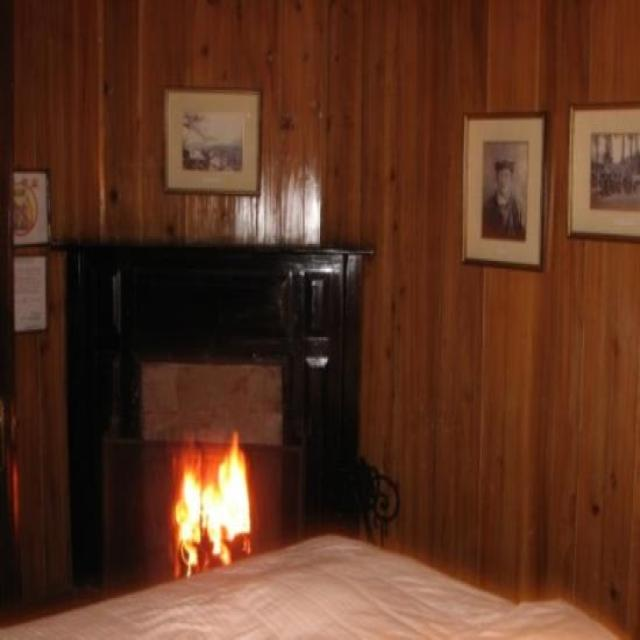fire: (168, 429, 252, 578)
